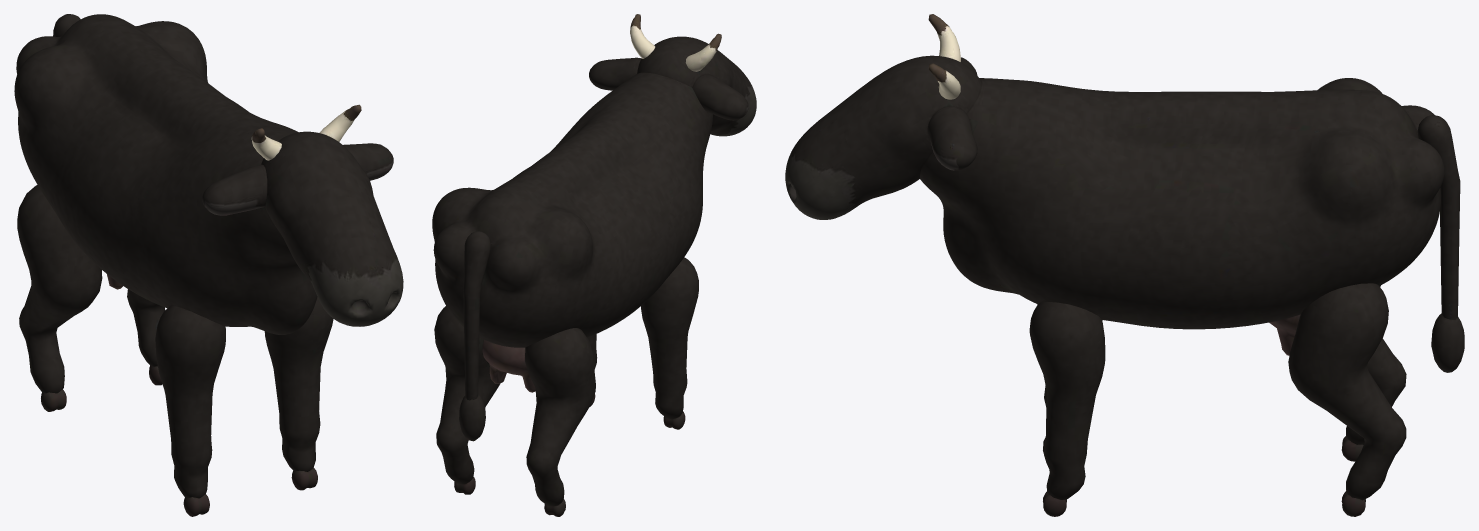
The model's file is animal_dexter.glb.
The picture shows the model from 3 angles, left to right: view 1: azimuth 30°, elevation 25°; view 2: azimuth 150°, elevation 25°; view 3: azimuth 270°, elevation 25°; orthographic projection. The views are drawn at different scales.
Visible parts, largest first — view 1: animal_dexter, head, leg2, leg0, leg1, leg3; view 2: animal_dexter, leg2, head, leg0, leg3, tail; view 3: animal_dexter, head, leg3, leg1, tail, leg2.
Part boxes in pixels (x1=…): animal_dexter: x1=14, y1=14, x2=317, y2=334; head: x1=202, y1=104, x2=403, y2=326; leg2: x1=17, y1=185, x2=102, y2=411; leg0: x1=155, y1=305, x2=225, y2=516; leg1: x1=264, y1=297, x2=333, y2=490; leg3: x1=127, y1=289, x2=165, y2=385; animal_dexter: x1=432, y1=72, x2=712, y2=392; leg2: x1=525, y1=328, x2=595, y2=516; head: x1=589, y1=14, x2=756, y2=136; leg0: x1=641, y1=257, x2=698, y2=429; leg3: x1=434, y1=306, x2=500, y2=494; tail: x1=459, y1=231, x2=490, y2=441; animal_dexter: x1=920, y1=78, x2=1444, y2=355; head: x1=785, y1=14, x2=981, y2=219; leg3: x1=1288, y1=283, x2=1406, y2=516; leg1: x1=1029, y1=302, x2=1105, y2=516; tail: x1=1417, y1=115, x2=1464, y2=372; leg2: x1=1341, y1=285, x2=1406, y2=461.
Size of the model in its own units: 0.2278 by 0.4834 by 0.6663.
Materials: 1 (1 with a texture image).
